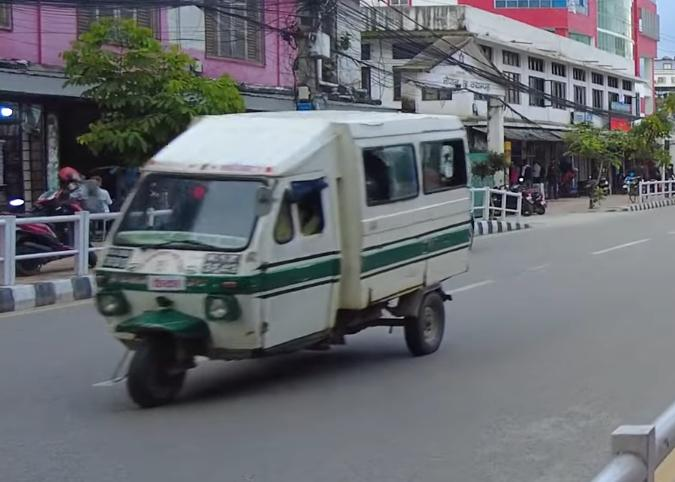scooter: (0, 166, 100, 277)
tempo: (86, 98, 496, 416)
